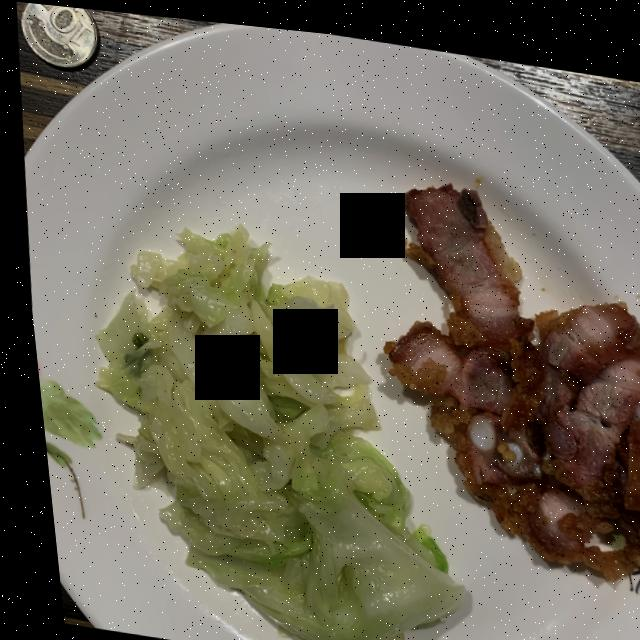cabbage: (90, 222, 452, 640)
coin: (21, 2, 97, 67)
red grilled pork: (380, 175, 640, 568)
